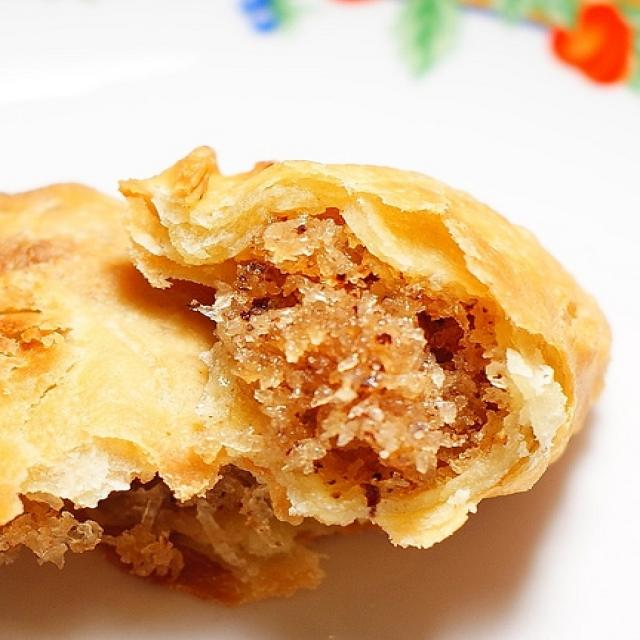炸货点心: (6, 28, 615, 631)
